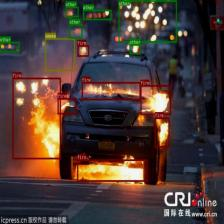fire: (12, 77, 61, 159), (77, 160, 147, 182), (82, 82, 140, 100), (140, 85, 171, 115), (155, 117, 169, 147), (57, 98, 76, 114), (77, 45, 89, 57)
smoke: (45, 38, 74, 71)
